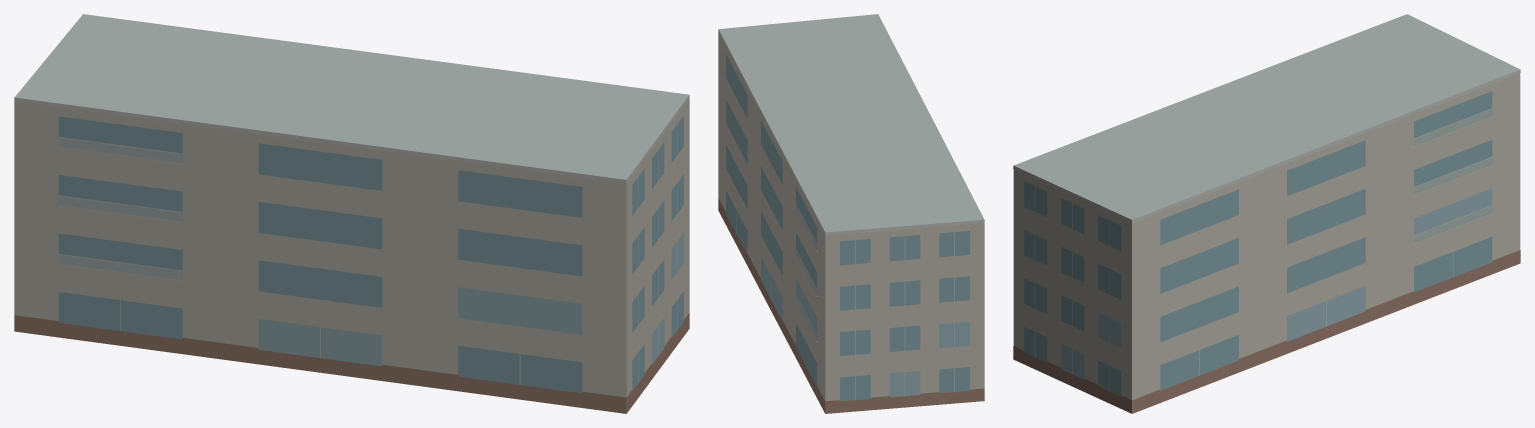
The model's file is survey-upis-32949967.glb.
3 views of the same model, side by side, from view 1: azimuth 30°, elevation 25°; view 2: azimuth 150°, elevation 25°; view 3: azimuth 270°, elevation 25° (orthographic). The views are drawn at different scales.
Parts seen in each view (by area): view 1: survey-upis-32949967.tmp; view 2: survey-upis-32949967.tmp; view 3: survey-upis-32949967.tmp.
Boxes of the visible parts, <box> form: survey-upis-32949967.tmp: <box>14,14,689,413</box>; survey-upis-32949967.tmp: <box>718,14,984,413</box>; survey-upis-32949967.tmp: <box>1013,14,1520,413</box>.
Bounding box in the file's own units: 30.97 × 13.6 × 32.22.
